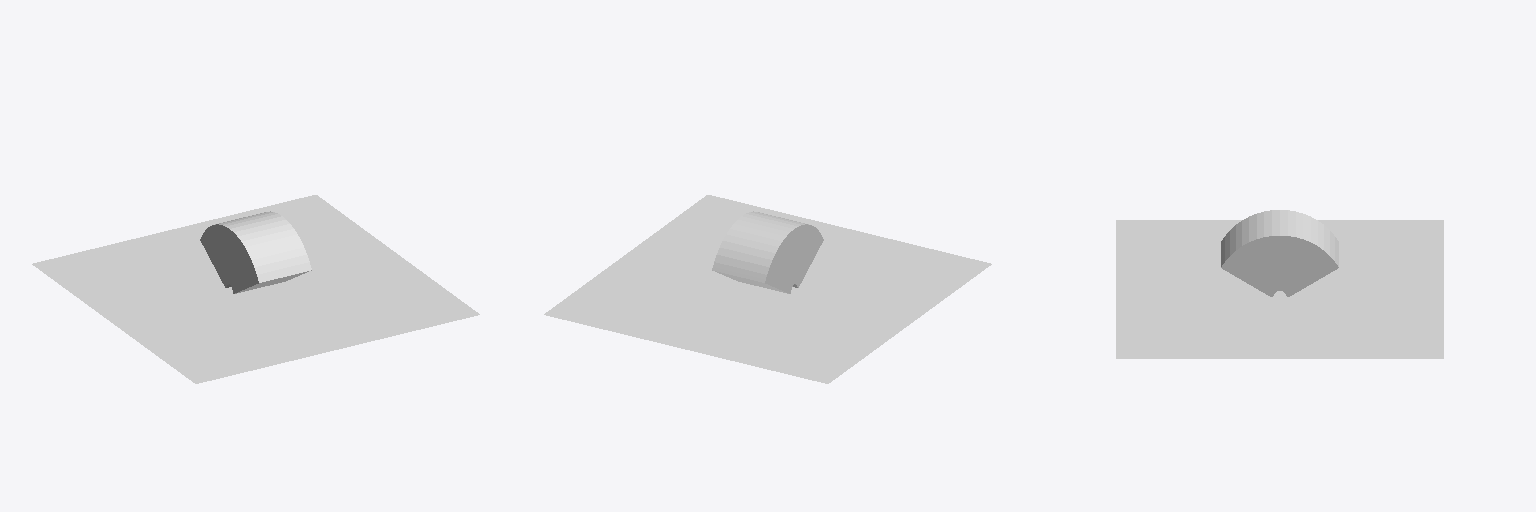
The model's file is arc-on-plane.obj.
3 views of the same model, side by side, from view 1: azimuth 30°, elevation 25°; view 2: azimuth 150°, elevation 25°; view 3: azimuth 270°, elevation 25° (orthographic).
Parts seen in each view (by area): view 1: pPlane1, pCube1; view 2: pPlane1, pCube1; view 3: pPlane1, pCube1.
Part boxes in pixels (bbox=[...]): pPlane1: bbox=[32, 195, 479, 383]; pCube1: bbox=[200, 211, 311, 293]; pPlane1: bbox=[544, 195, 991, 383]; pCube1: bbox=[712, 211, 823, 293]; pPlane1: bbox=[1116, 220, 1443, 358]; pCube1: bbox=[1221, 210, 1338, 296].
Bounding box in the file's own units: 20 × 4.48 × 20.